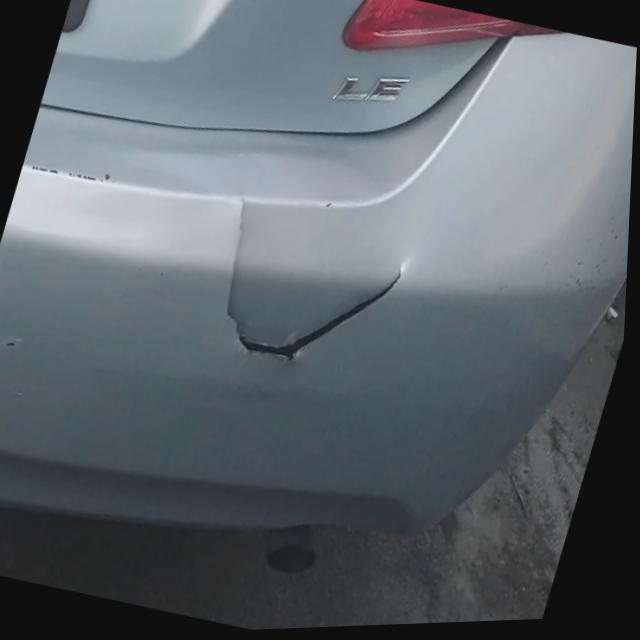Crack: (218, 188, 406, 369)
Scratch: (21, 159, 113, 182), (1, 336, 18, 348)
